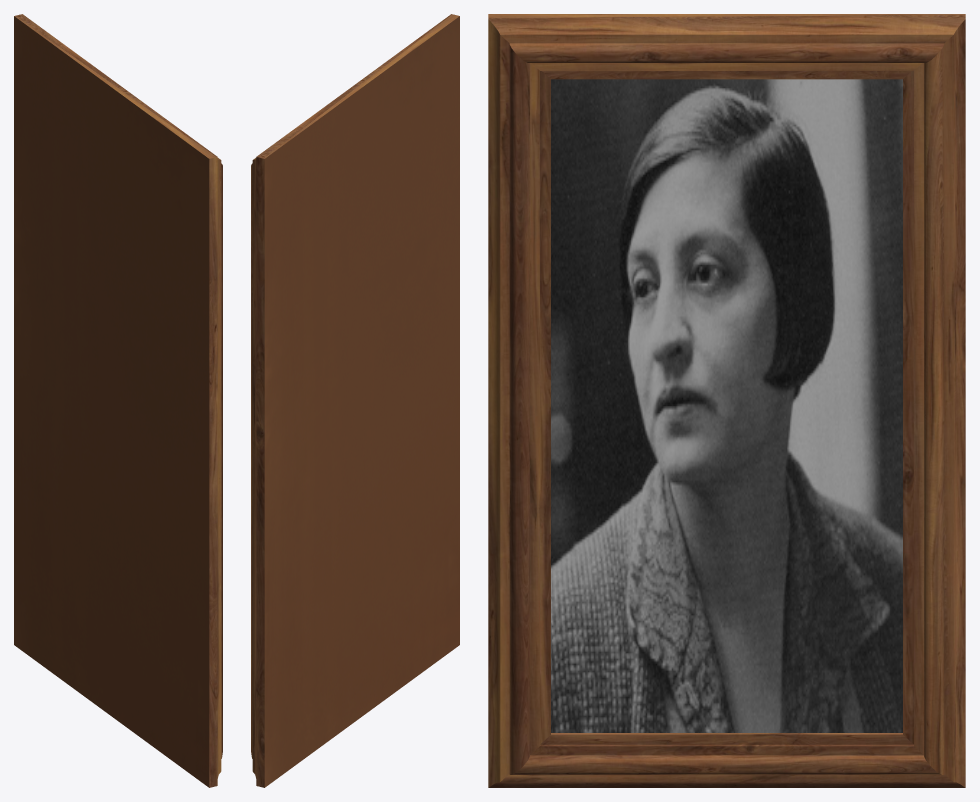
File: tablo_halide_edip_adıvar.fbx
The picture shows the model from 3 angles, left to right: view 1: azimuth 30°, elevation 25°; view 2: azimuth 150°, elevation 25°; view 3: azimuth 270°, elevation 25°; orthographic projection. The views are drawn at different scales.
Visible parts, largest first — view 1: tablo_1; view 2: tablo_1; view 3: tablo_1.
Part boxes in pixels (x1,y1,x2,y2): tablo_1: (14, 14, 222, 787); tablo_1: (251, 14, 459, 787); tablo_1: (488, 14, 965, 787).
Bounding box in the file's own units: 307 × 7339 × 4128.
Materials: 1 (1 with a texture image).
